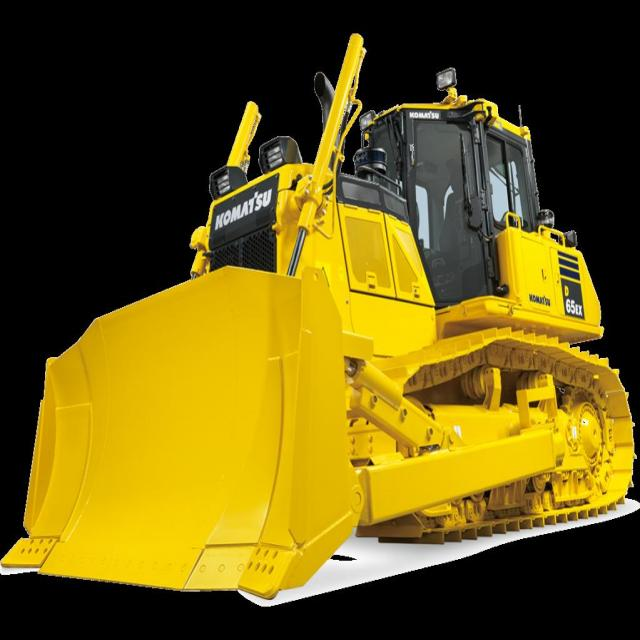Bulldozer: (18, 46, 640, 607)
